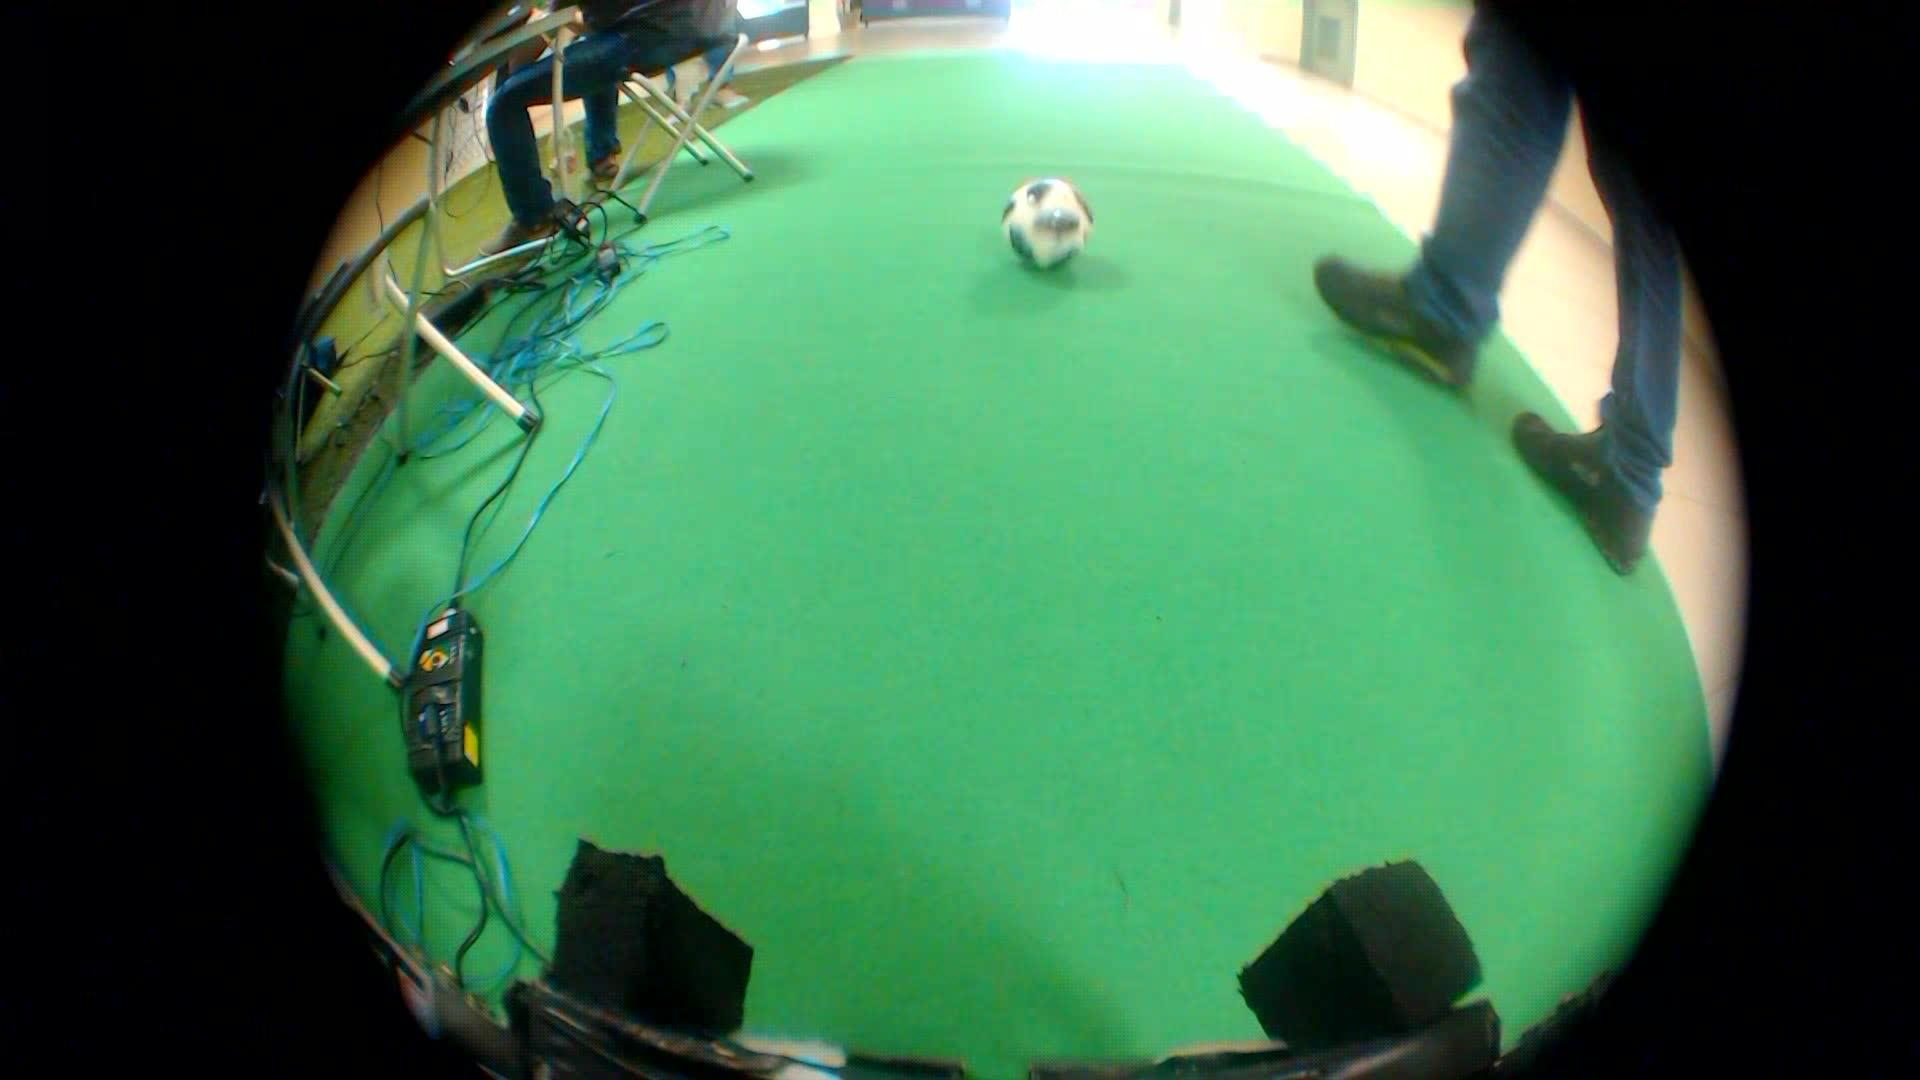ball: (984, 166, 1097, 280)
